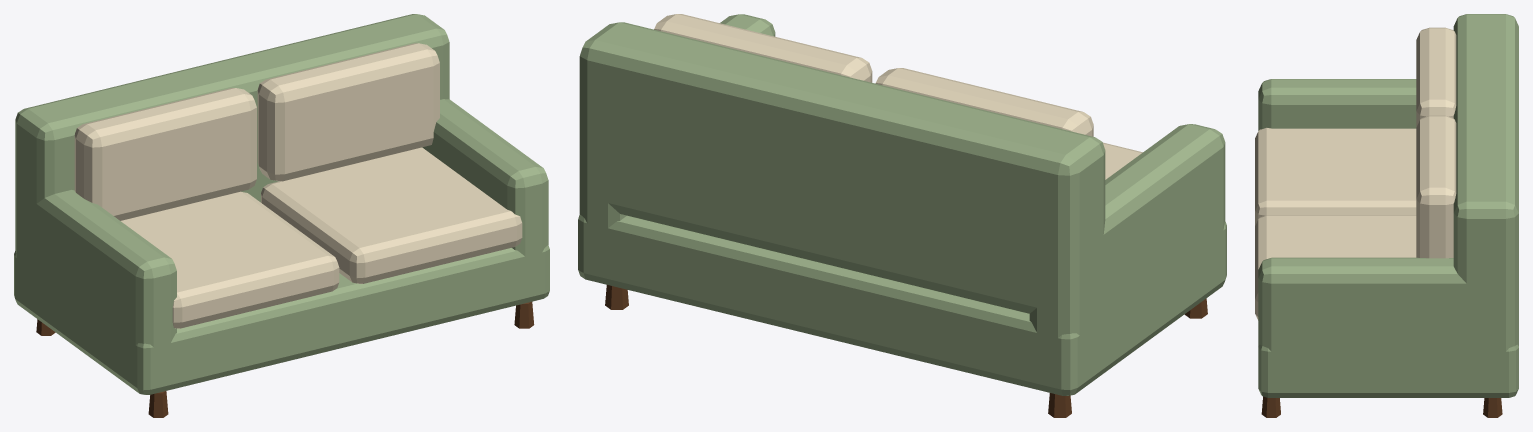
File: sofa.glb
3 renders of one model, left to right at view 1: azimuth 30°, elevation 25°; view 2: azimuth 150°, elevation 25°; view 3: azimuth 270°, elevation 25°, orthographic. The views are drawn at different scales.
Visible parts, largest first — view 1: sofa; view 2: sofa; view 3: sofa.
Part boxes in pixels (left/top/right/bottom): sofa: left=14, top=14, right=549, bottom=417; sofa: left=578, top=14, right=1226, bottom=417; sofa: left=1255, top=14, right=1518, bottom=417.
Bounding box in the file's own units: 1.44 × 0.74 × 0.81.
1 material, 1 textured.
